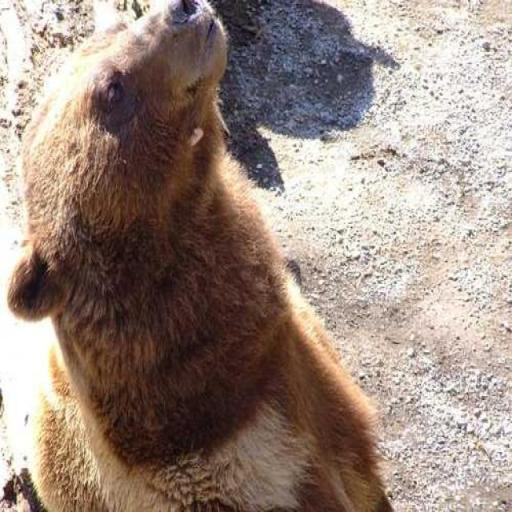Bear: (5, 0, 402, 511)
